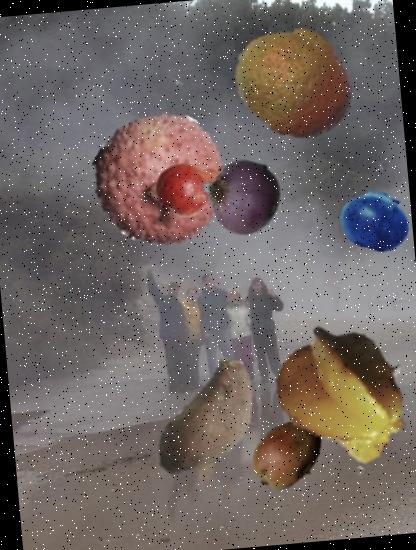Carambula: (263, 312, 416, 475)
Huckleberry: (338, 183, 413, 258)
Lychee: (89, 105, 235, 251)
Mandarine: (228, 16, 362, 149)
Onion: (192, 146, 286, 240)
Papaya: (244, 409, 335, 499)
Pear: (152, 145, 234, 227)
Potato: (138, 351, 284, 498)
